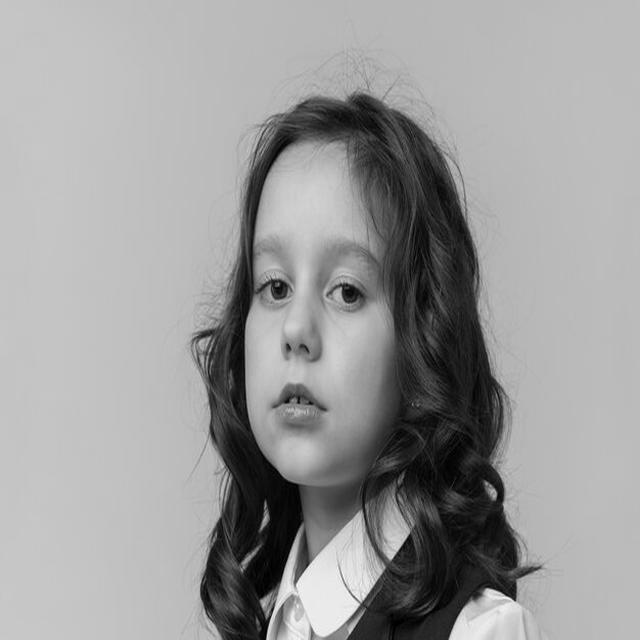Neutral: (243, 147, 403, 487)
